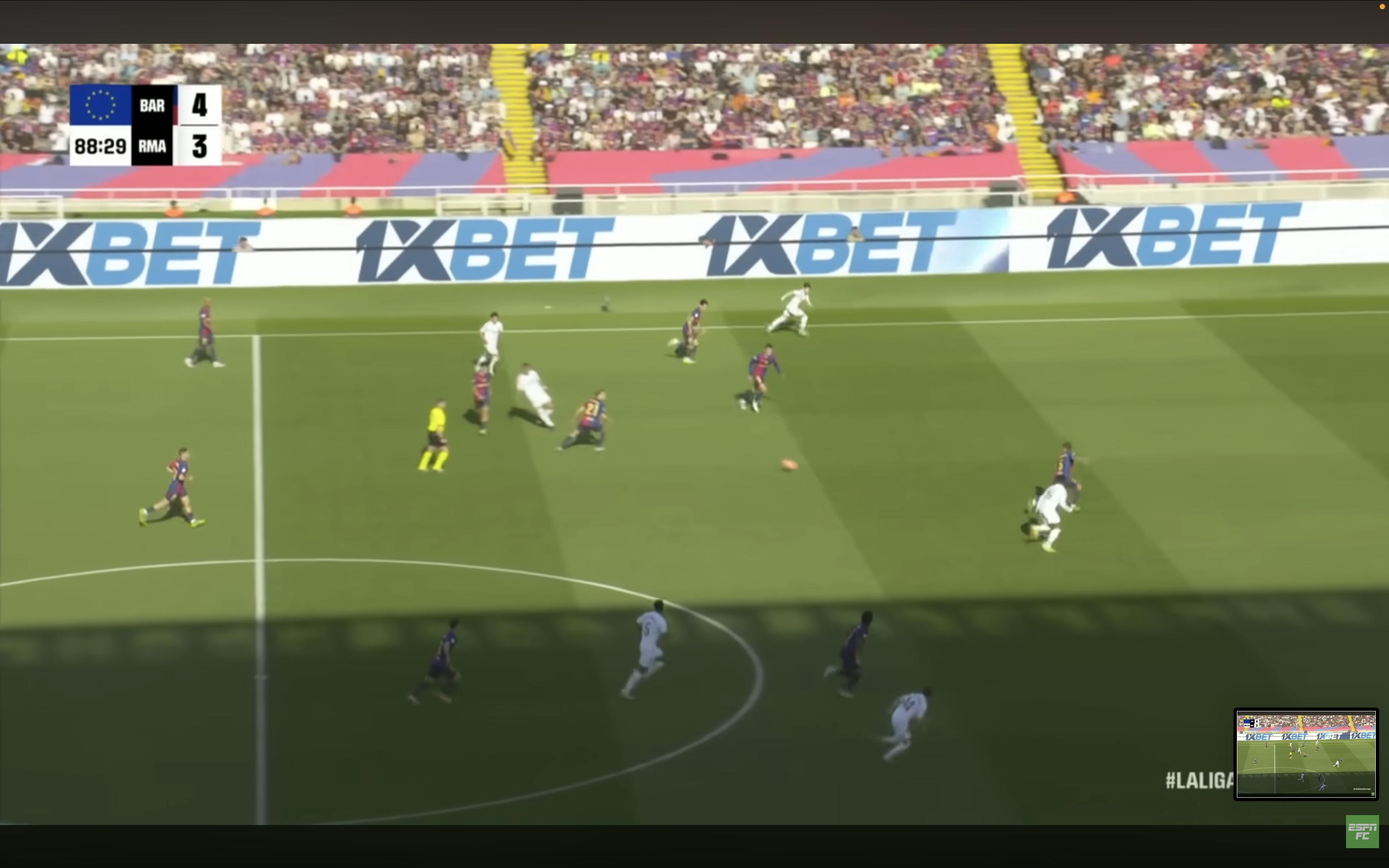ball: (781, 459, 798, 470)
player: (139, 448, 205, 527), (621, 600, 668, 698), (407, 618, 460, 704), (824, 611, 873, 697), (1022, 482, 1076, 553), (883, 688, 931, 761), (558, 390, 608, 451), (739, 344, 783, 412), (185, 298, 225, 368), (516, 363, 555, 428), (668, 300, 708, 363), (766, 282, 812, 336), (1052, 442, 1082, 508), (477, 312, 504, 374), (472, 364, 492, 434)
referee: (418, 400, 449, 472)
